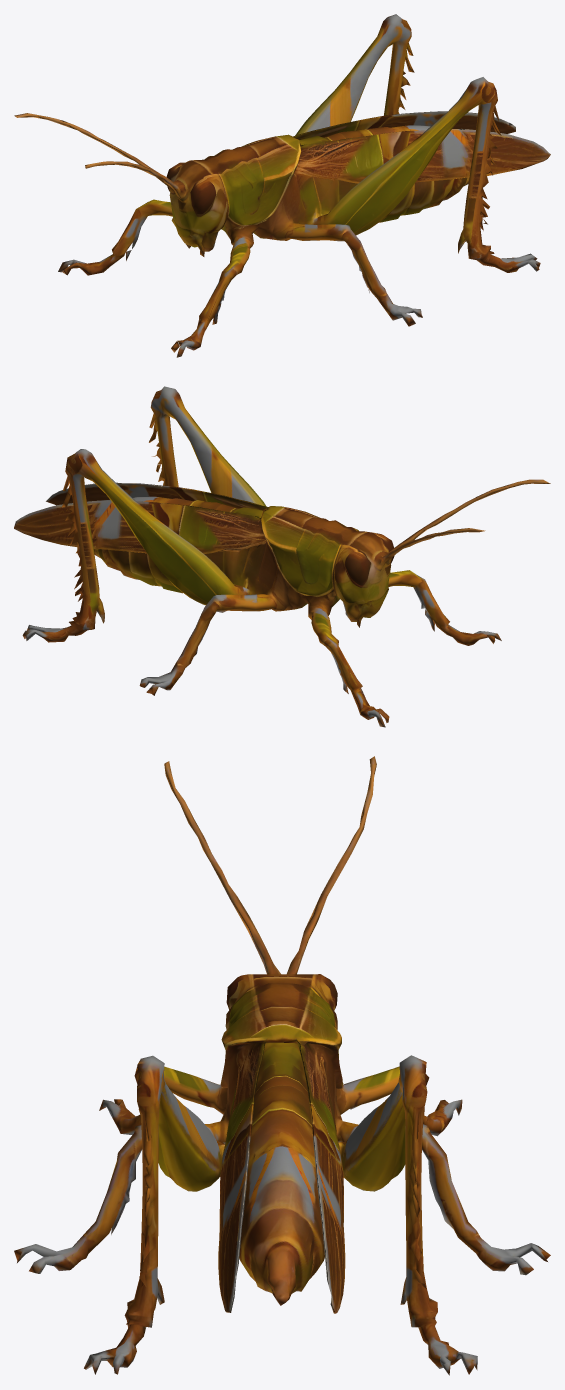
File: Grilo.glb
3 renders of one model, top to bottom at view 1: azimuth 30°, elevation 25°; view 2: azimuth 150°, elevation 25°; view 3: azimuth 270°, elevation 25°, orthographic. The views are drawn at different scales.
Parts seen in each view (by area): view 1: tripo_node_b60e772b-b630-4c9c-ae24-35c4962aa208; view 2: tripo_node_b60e772b-b630-4c9c-ae24-35c4962aa208; view 3: tripo_node_b60e772b-b630-4c9c-ae24-35c4962aa208.
Part boxes in pixels (<box>): tripo_node_b60e772b-b630-4c9c-ae24-35c4962aa208: <box>14,14,550,357</box>; tripo_node_b60e772b-b630-4c9c-ae24-35c4962aa208: <box>14,386,550,727</box>; tripo_node_b60e772b-b630-4c9c-ae24-35c4962aa208: <box>14,756,550,1375</box>.
Size of the model in its own units: 1 by 0.3855 by 0.6201.
Materials: 1 (1 with a texture image).
